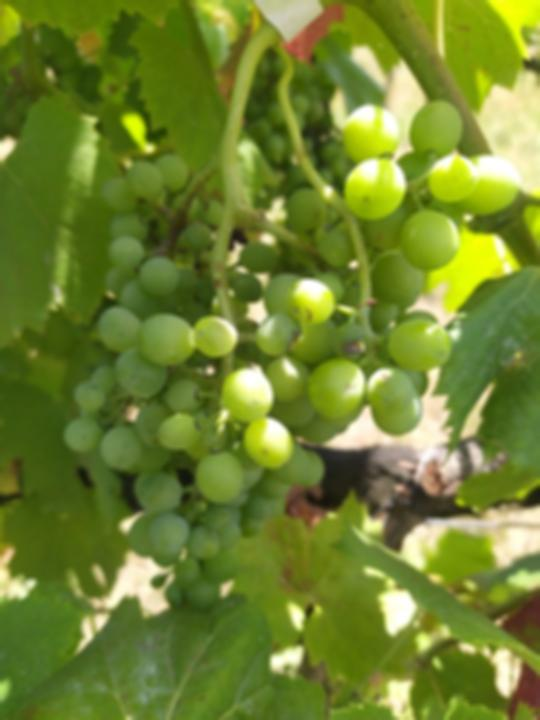grape: (62, 99, 524, 612)
